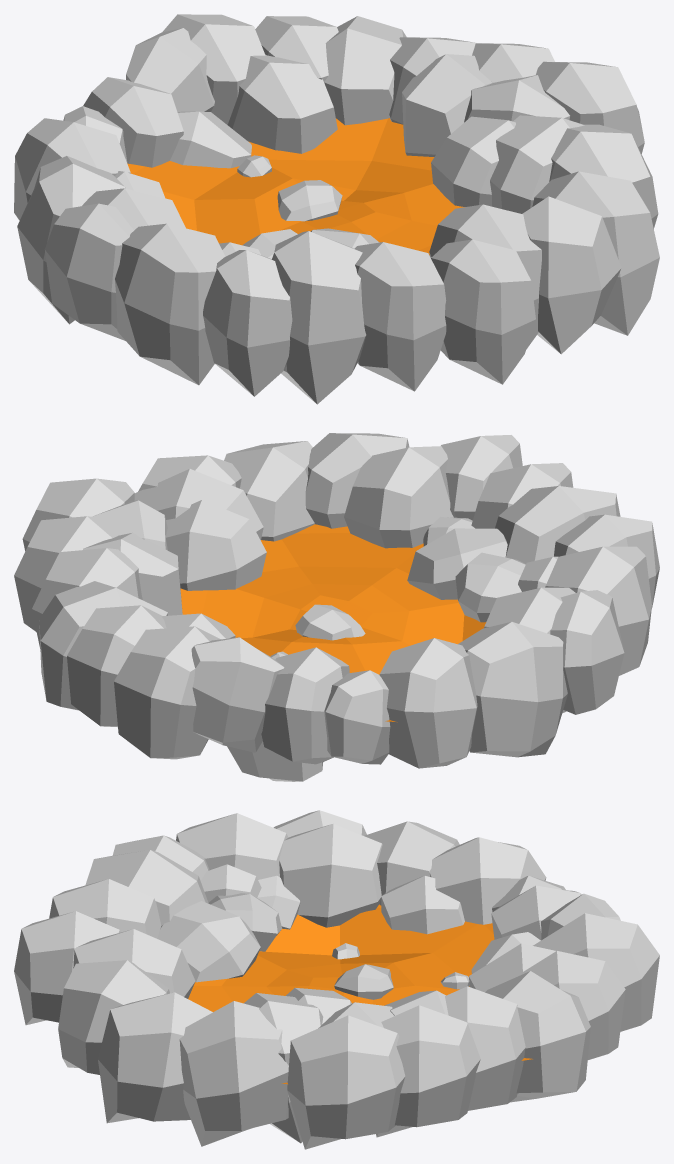
File: Mug_Ale.fbx
The picture shows the model from 3 angles, top to bottom: view 1: azimuth 30°, elevation 25°; view 2: azimuth 150°, elevation 25°; view 3: azimuth 270°, elevation 25°; orthographic projection. The views are drawn at different scales.
Visible parts, largest first — view 1: Mug_Ale_Foam, Mug_Liquid_Ale; view 2: Mug_Ale_Foam, Mug_Liquid_Ale; view 3: Mug_Ale_Foam, Mug_Liquid_Ale.
Boxes of the visible parts, left/top/right/bottom form: Mug_Ale_Foam: left=14, top=14, right=659, bottom=404; Mug_Liquid_Ale: left=127, top=118, right=464, bottom=255; Mug_Ale_Foam: left=14, top=433, right=659, bottom=781; Mug_Liquid_Ale: left=180, top=524, right=486, bottom=722; Mug_Ale_Foam: left=14, top=810, right=659, bottom=1149; Mug_Liquid_Ale: left=188, top=904, right=532, bottom=1084.
Bounding box in the file's own units: 187 × 57 × 195.
